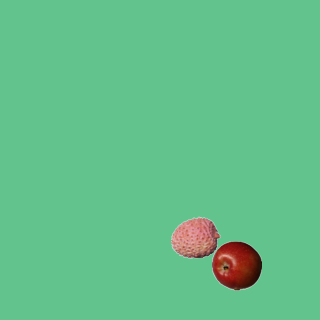Apple Braeburn: (211, 240, 261, 290)
Lychee: (170, 212, 220, 262)
